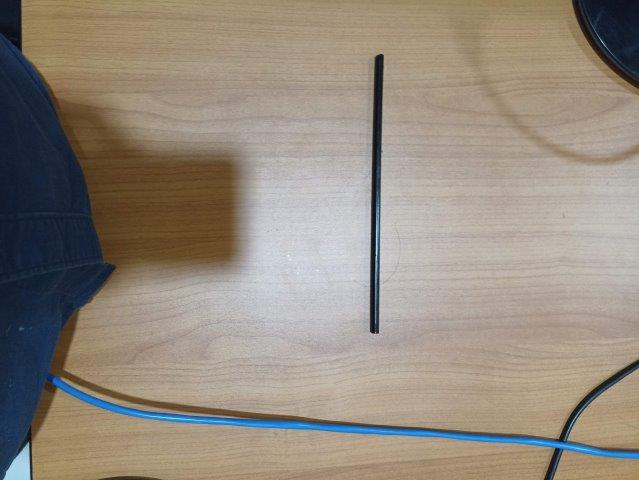sedotan: (370, 54, 384, 334)
